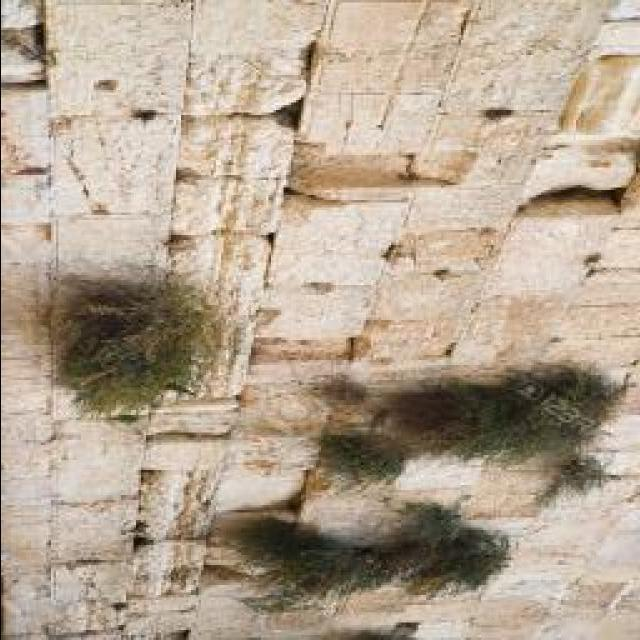crack: (38, 195, 71, 640), (482, 209, 609, 304), (312, 1, 441, 87), (290, 0, 361, 138), (415, 107, 535, 188), (398, 171, 532, 239), (52, 207, 170, 282), (49, 418, 144, 505), (0, 308, 54, 441), (385, 222, 504, 279), (3, 84, 56, 194), (375, 89, 449, 162), (48, 103, 172, 139), (169, 174, 231, 240), (174, 116, 236, 182), (60, 129, 110, 209), (185, 0, 205, 126), (592, 20, 639, 60), (261, 227, 279, 278)
dampens: (381, 242, 408, 267), (32, 20, 48, 62), (485, 107, 519, 119)
dampness: (5, 401, 217, 640)
vegetation: (4, 4, 640, 640), (320, 342, 637, 506), (218, 490, 576, 627), (33, 262, 223, 421), (520, 157, 638, 218), (4, 266, 63, 362), (264, 97, 306, 136)
